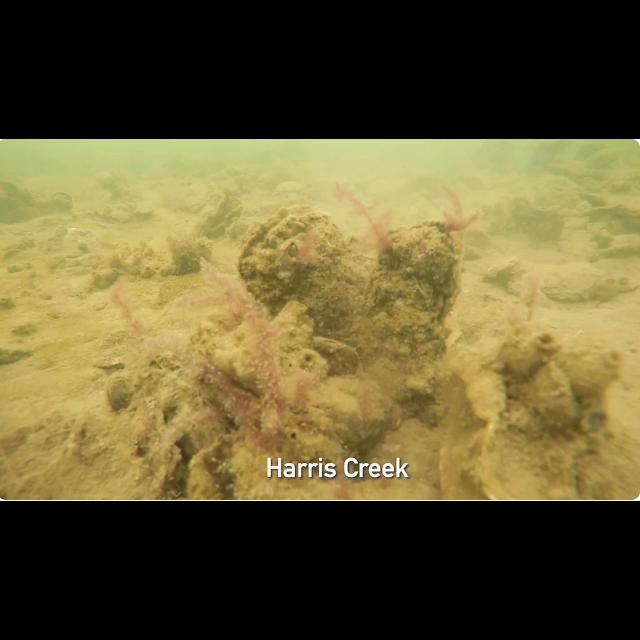Oyster-Closed: (368, 222, 461, 323), (475, 422, 588, 500), (363, 300, 449, 363), (439, 428, 489, 500), (305, 388, 366, 445), (529, 362, 578, 428), (285, 432, 348, 474), (540, 263, 604, 303), (509, 198, 564, 242), (161, 237, 213, 277), (466, 370, 506, 422), (155, 369, 191, 424), (449, 340, 490, 384), (511, 139, 565, 172), (313, 337, 359, 375), (589, 230, 639, 263), (589, 205, 639, 233), (393, 375, 431, 410), (106, 374, 134, 412), (0, 192, 33, 223), (586, 149, 620, 168), (0, 182, 31, 202), (608, 175, 639, 194), (151, 352, 180, 371), (575, 143, 606, 160), (109, 205, 134, 222), (580, 194, 606, 208), (133, 208, 154, 220)
Oyster-Open: (239, 205, 355, 307), (188, 440, 235, 500), (196, 190, 243, 238), (44, 193, 73, 211)
